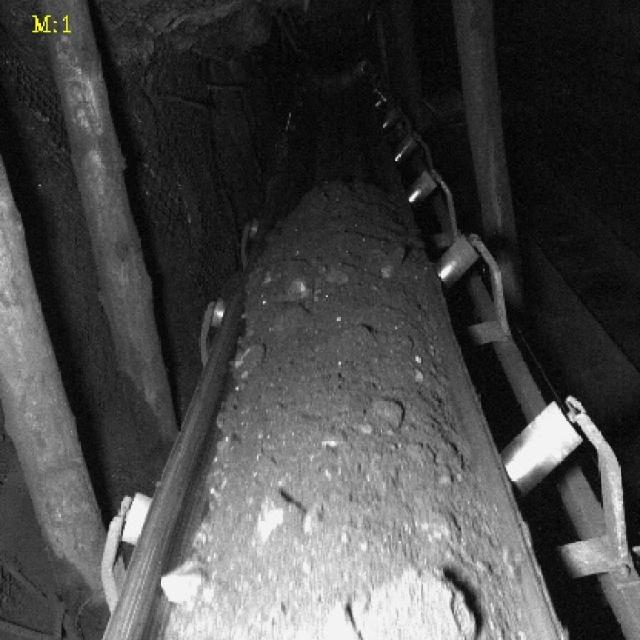large_sized_coal: (330, 571, 476, 640), (252, 491, 302, 540), (160, 568, 209, 606), (231, 343, 263, 380), (368, 396, 402, 426)
